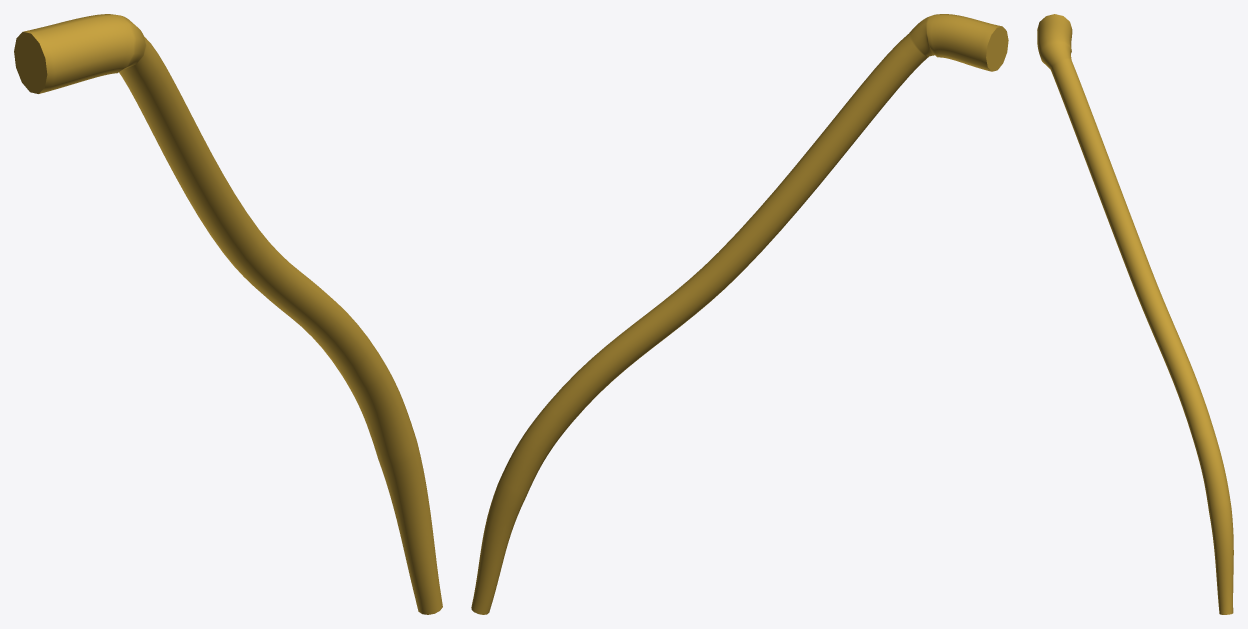
3 views of the same model, side by side, from view 1: azimuth 30°, elevation 25°; view 2: azimuth 150°, elevation 25°; view 3: azimuth 270°, elevation 25° (orthographic). The views are drawn at different scales.
Parts seen in each view (by area): view 1: 左侧视神经; view 2: 左侧视神经; view 3: 左侧视神经.
Part boxes in pixels (box(x1,y1,x2,y2)): 左侧视神经: box(14, 14, 442, 614); 左侧视神经: box(471, 14, 1008, 614); 左侧视神经: box(1037, 14, 1233, 614).
Bounding box in the file's own units: 0.045 × 0.0626 × 0.0247.
